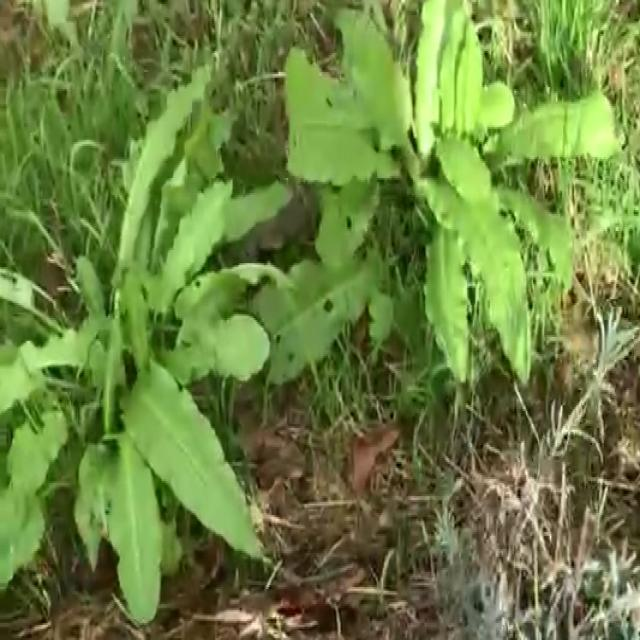organic waste: (0, 87, 281, 636), (277, 0, 627, 417)
